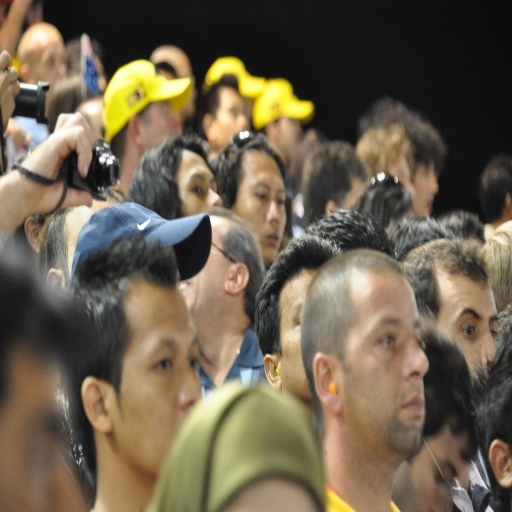hand: (19, 106, 92, 204)
